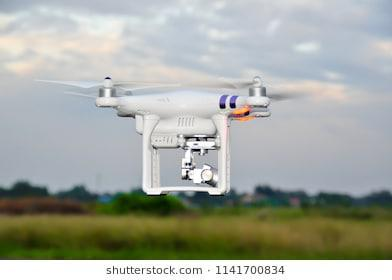drone: (95, 72, 270, 199)
